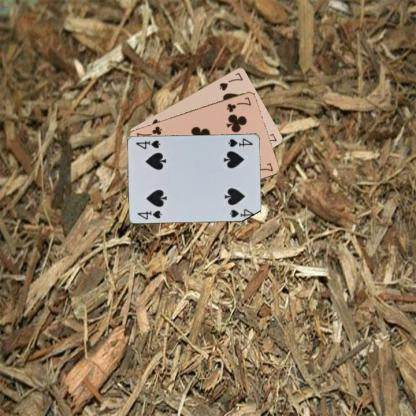4s: (135, 207, 163, 221), (226, 136, 254, 148)
7c: (223, 94, 252, 113)
7s: (216, 70, 244, 92)
